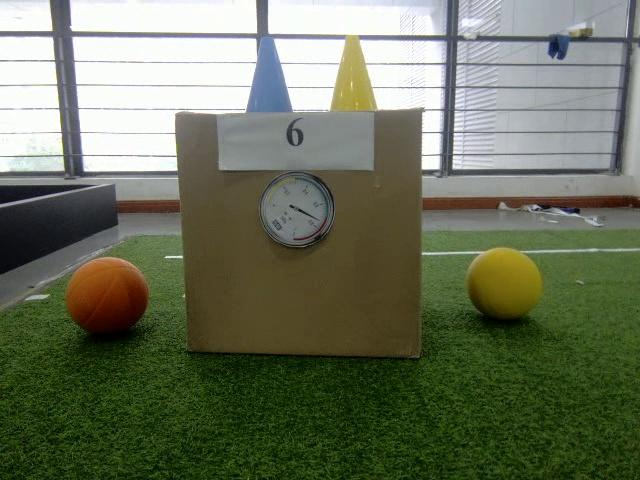6: (285, 118, 306, 148)
Dashboard: (259, 174, 335, 248)
blue_barrel: (245, 34, 292, 110)
orange_ball: (66, 256, 148, 338)
ssi: (270, 218, 286, 235)
yellow_ball: (467, 249, 543, 319)
yellow_barrel: (330, 34, 380, 110)
